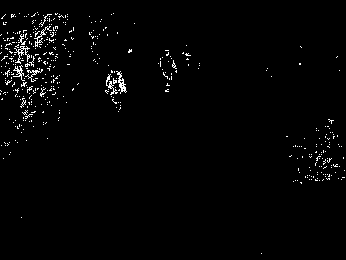person: (158, 48, 178, 92)
